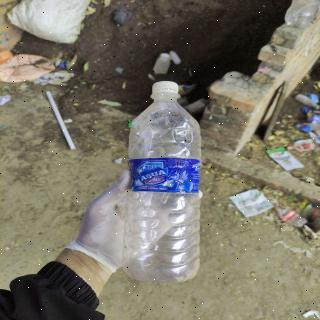Plastic-bottle: (120, 77, 207, 289)
